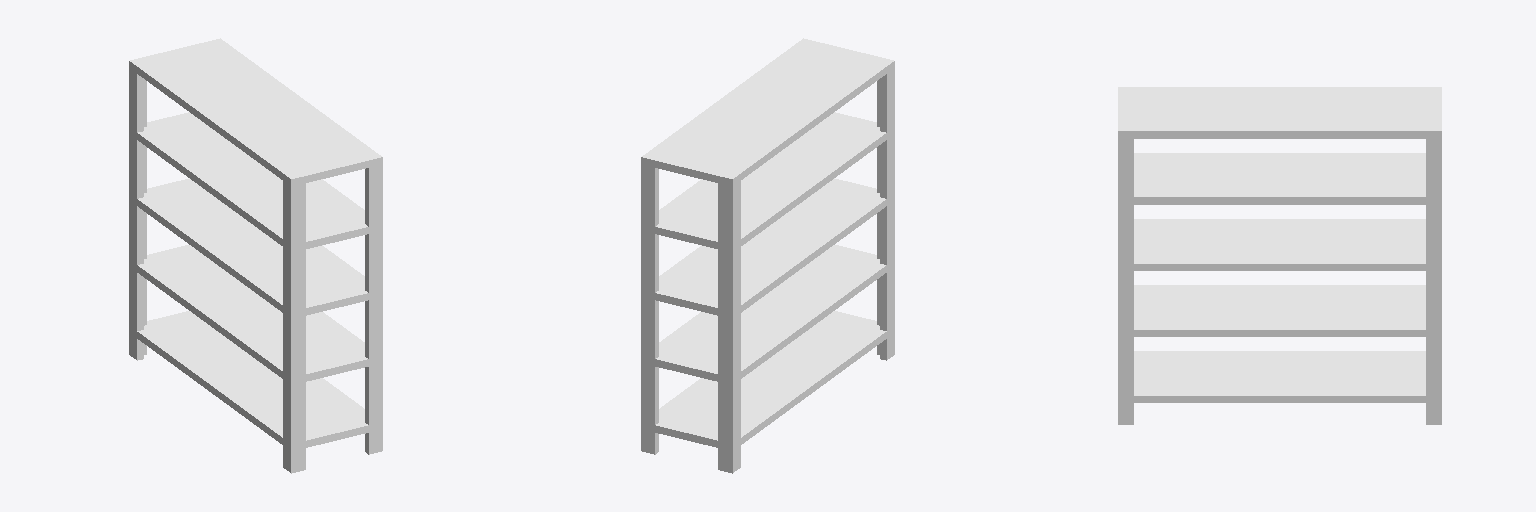
File: steel_shelf.obj
3 views of the same model, side by side, from view 1: azimuth 30°, elevation 25°; view 2: azimuth 150°, elevation 25°; view 3: azimuth 270°, elevation 25° (orthographic).
Visible parts, largest first — view 1: object 1; view 2: object 1; view 3: object 1.
Boxes of the visible parts, <box> form: object 1: <box>129,38,382,473</box>; object 1: <box>641,38,894,473</box>; object 1: <box>1118,87,1441,424</box>.
Size of the model in its own units: 1.3 by 4 by 4.